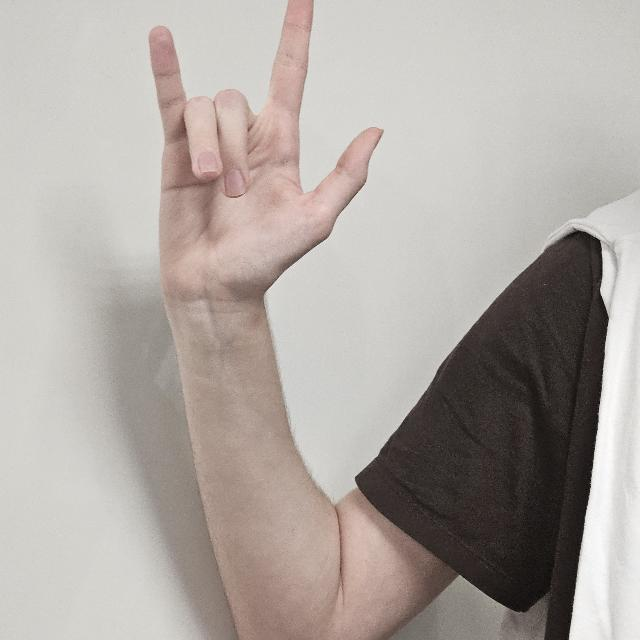Cima: (142, 2, 380, 324)
